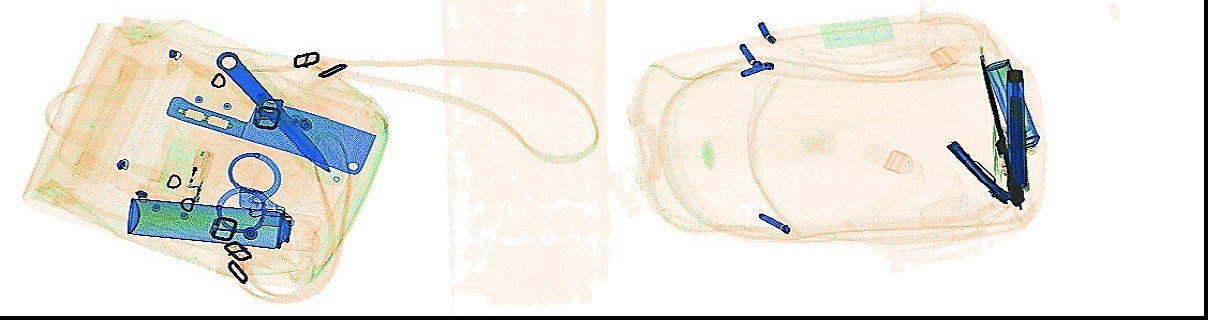handcuffs: (211, 149, 296, 236)
knife: (165, 89, 376, 175), (209, 47, 332, 173), (975, 42, 1025, 210), (941, 136, 1009, 206)
lighter: (178, 142, 216, 201)
pressure: (123, 193, 293, 250)
zippooil: (982, 57, 1041, 152)
